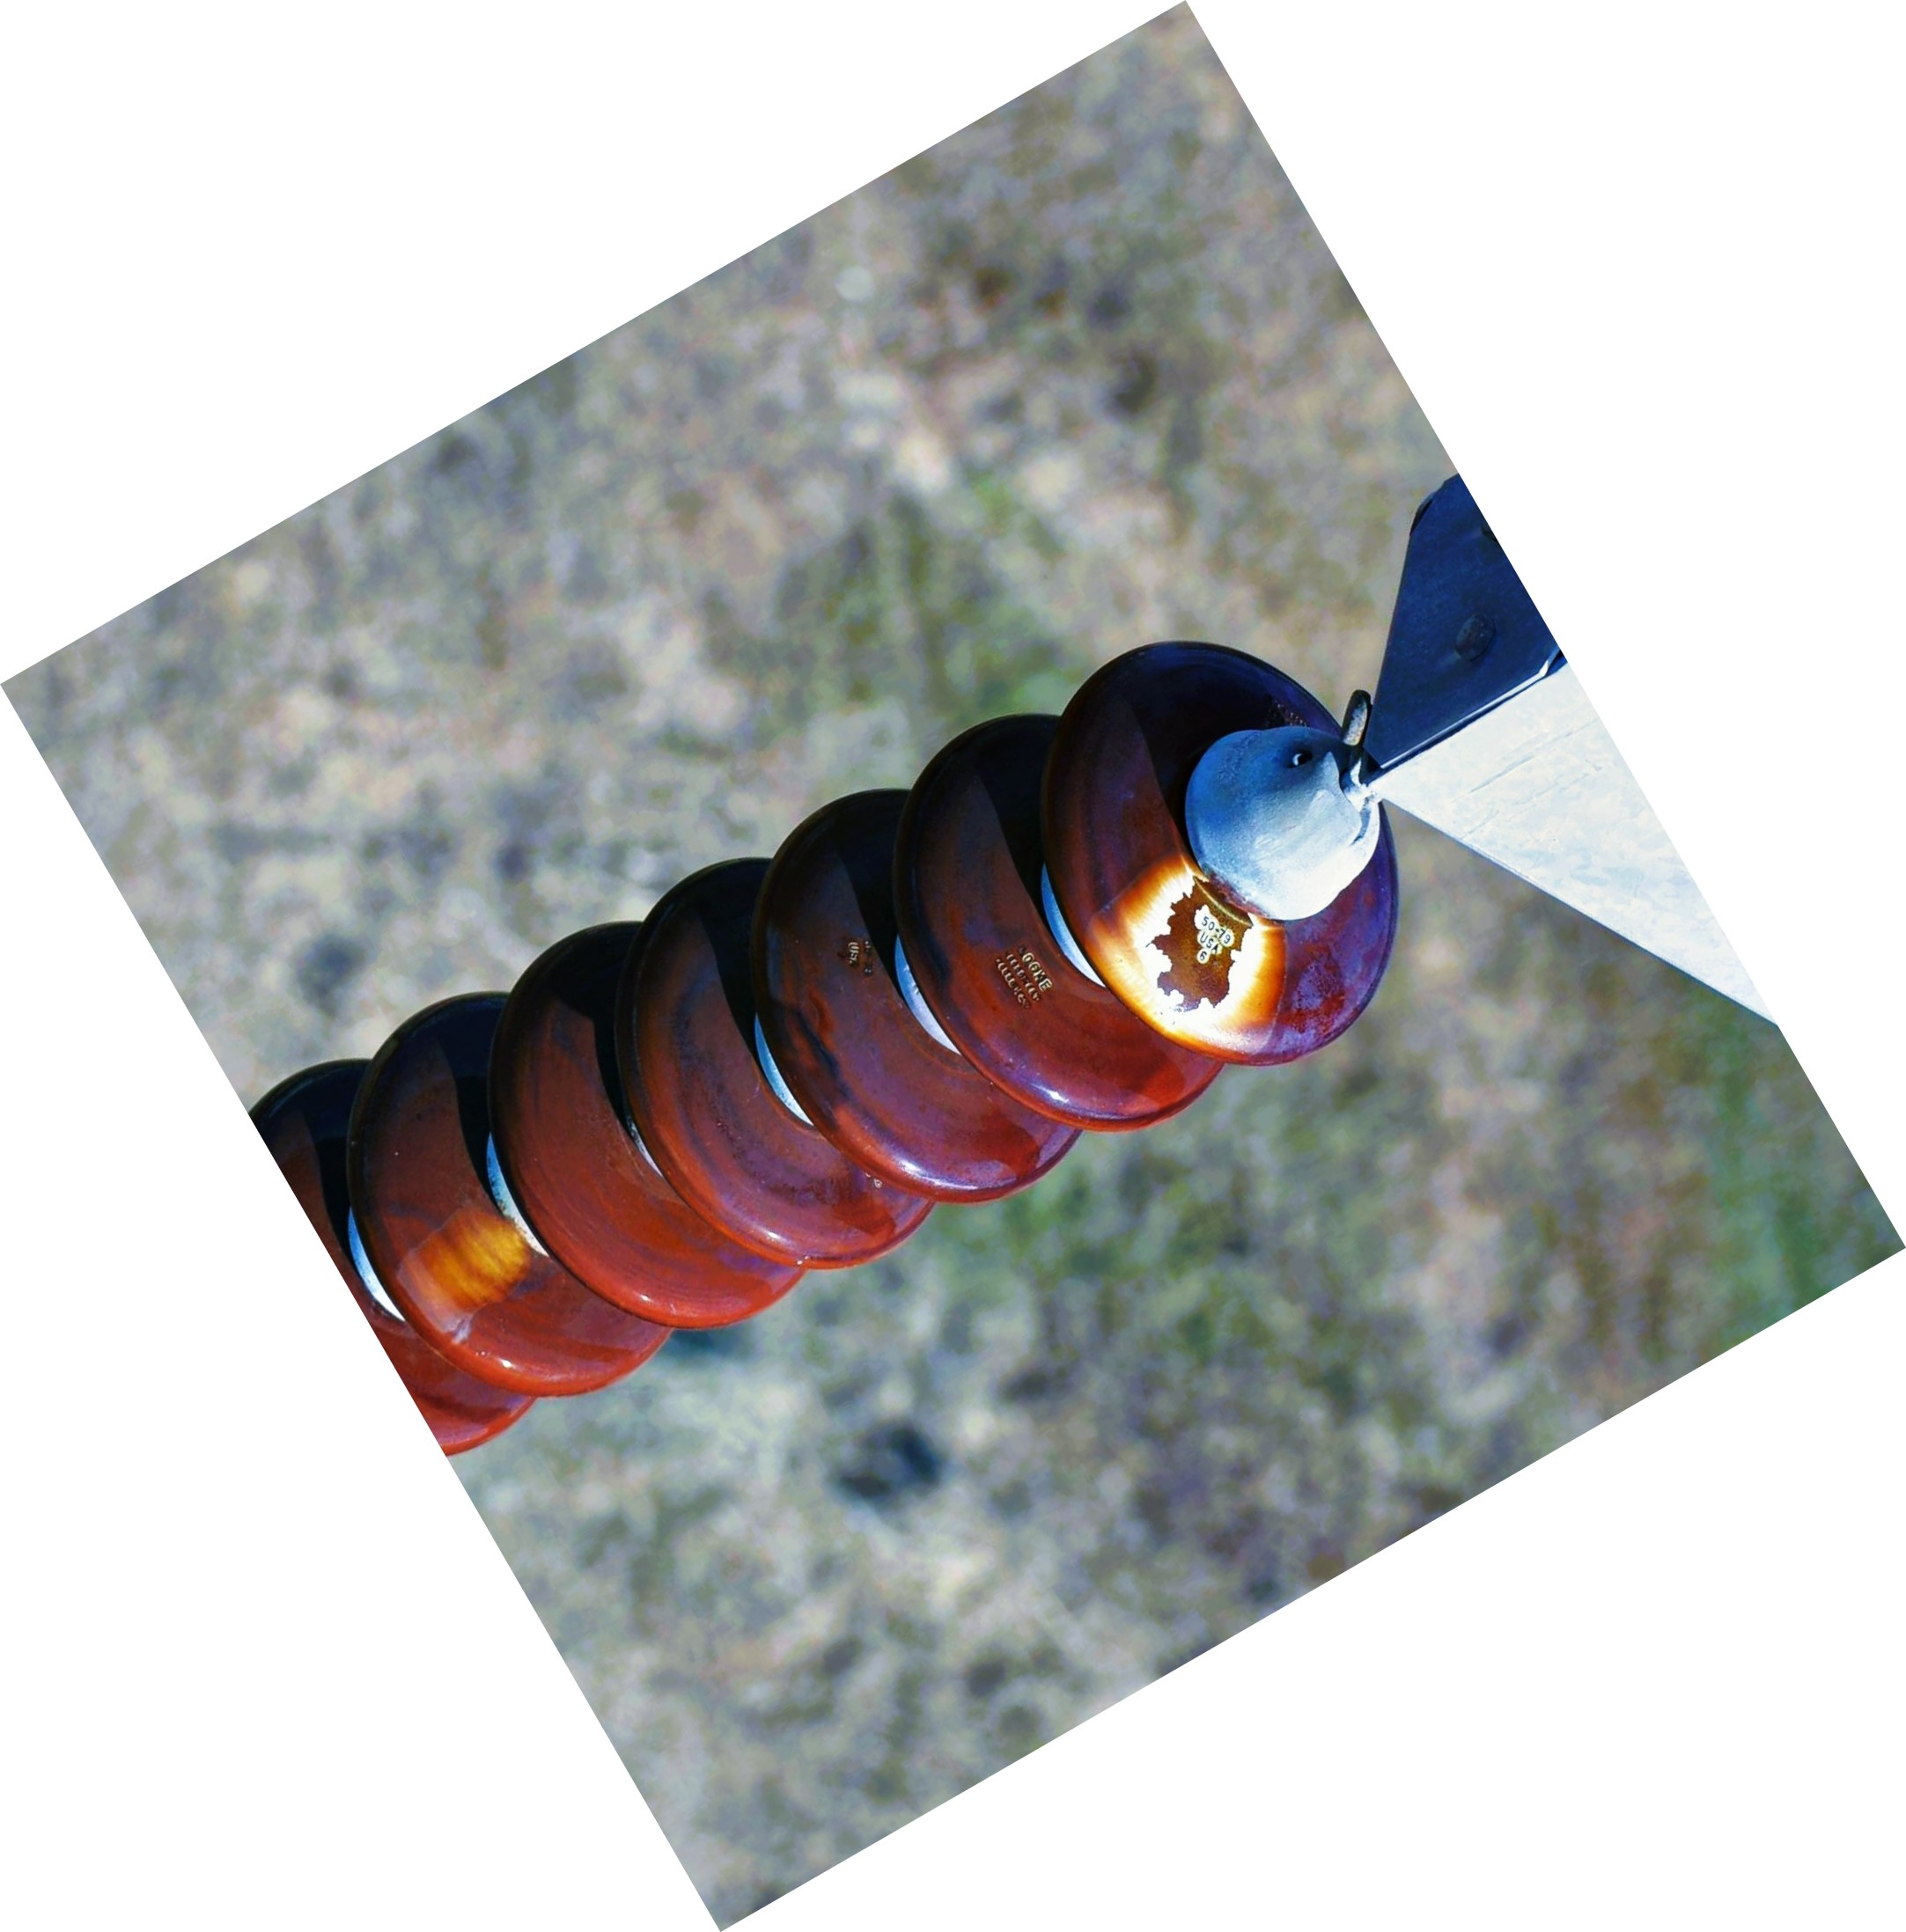Insulator flashover: (1012, 623, 1426, 1072)
